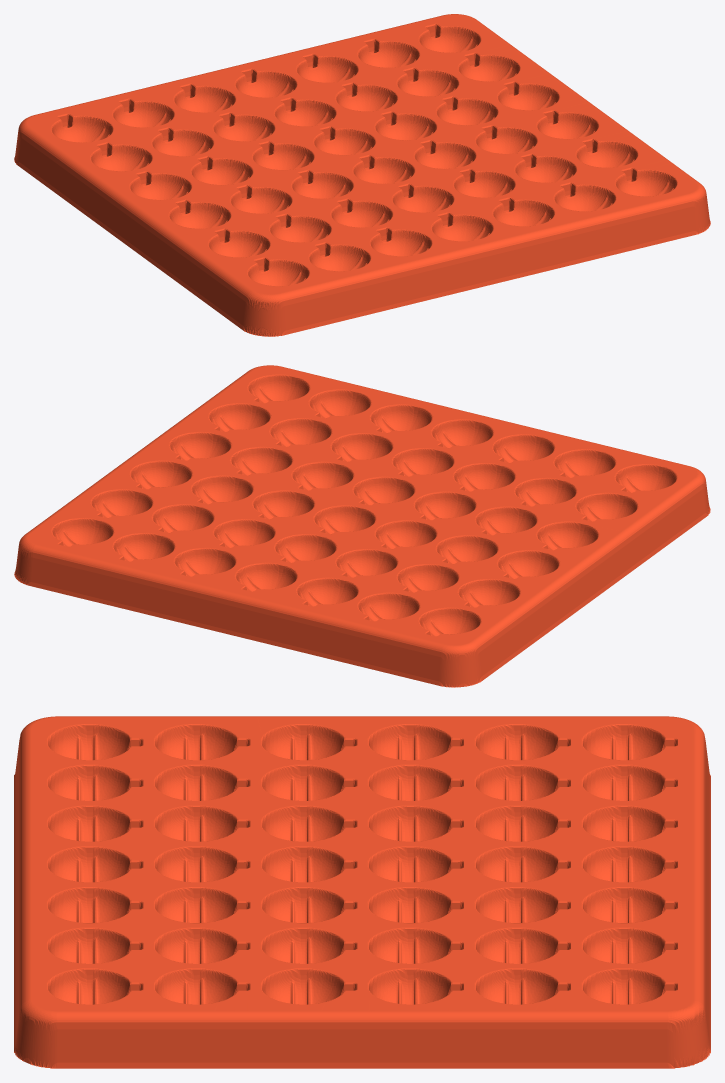
The model's file is mold.glb.
3 renders of one model, top to bottom at view 1: azimuth 30°, elevation 25°; view 2: azimuth 150°, elevation 25°; view 3: azimuth 270°, elevation 25°, orthographic. The views are drawn at different scales.
Visible parts, largest first — view 1: geometry_0; view 2: geometry_0; view 3: geometry_0.
Part boxes in pixels (x1=…): geometry_0: x1=14, y1=14, x2=710, y2=336; geometry_0: x1=14, y1=365, x2=710, y2=687; geometry_0: x1=14, y1=716, x2=710, y2=1068.
Bounding box in the file's own units: 0.1505 × 0.0114 × 0.1437.
